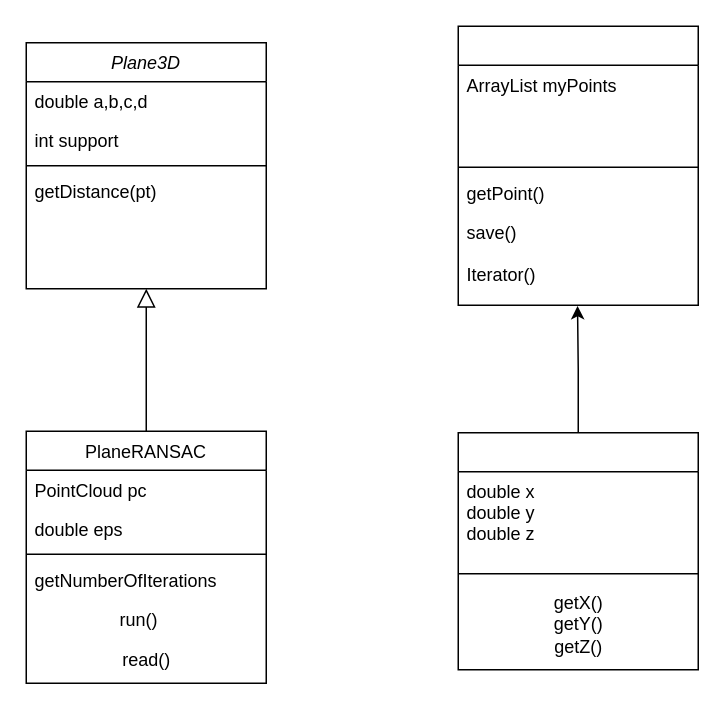
This 725x710 diagram has some shape labels left out. Here are the shapes that lost their labels. From the top down, the box of each, then its label:
(457, 25, 698, 305): PointCloud
(457, 431, 698, 670): Point3D
